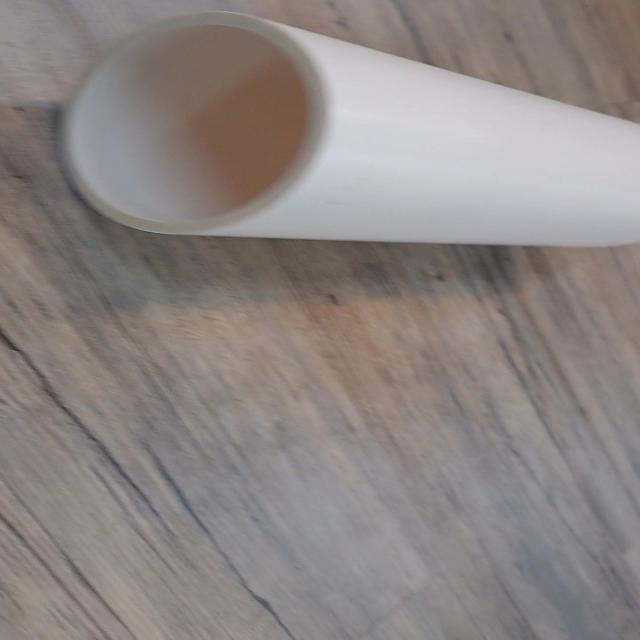CORAL: (54, 8, 640, 276)
